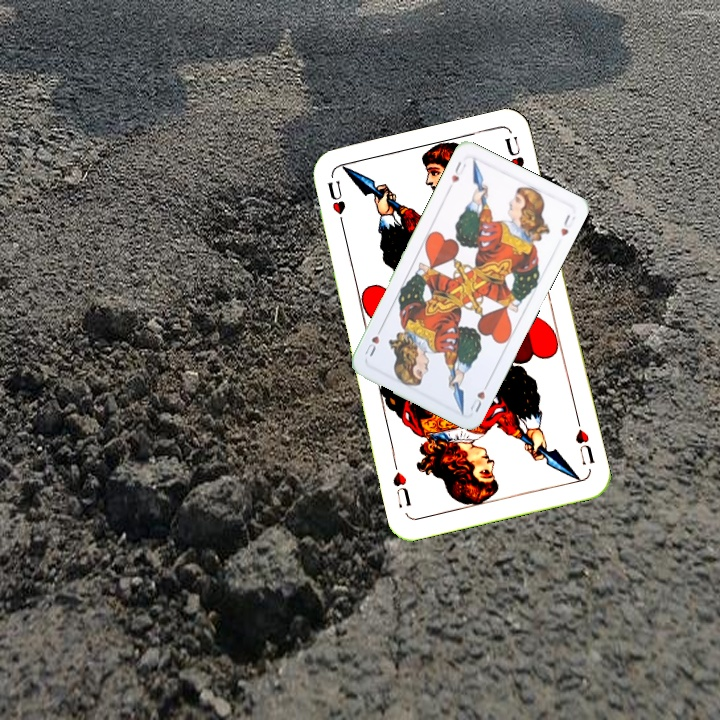HU: (571, 414, 598, 468), (323, 176, 348, 233), (465, 378, 492, 415), (444, 157, 469, 192)
